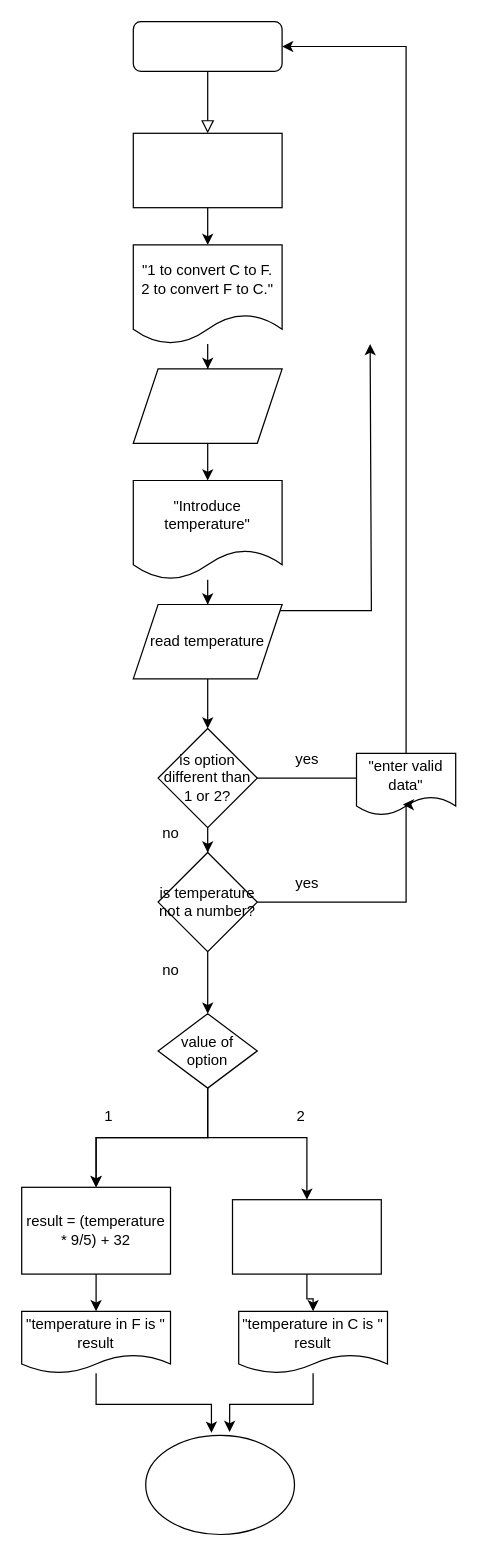
Some shapes in this 477 by 1556 pixel diagram are drawn without their labels. Here are the shapes that lost their labels. From the top down, the box of each, then its label:
(132, 20, 282, 71): start
(132, 132, 282, 208): var temperature, option, result
(132, 368, 282, 443): read option
(231, 1198, 381, 1274): result = (temperature - 32) * 5/9
(144, 1434, 294, 1534): end
